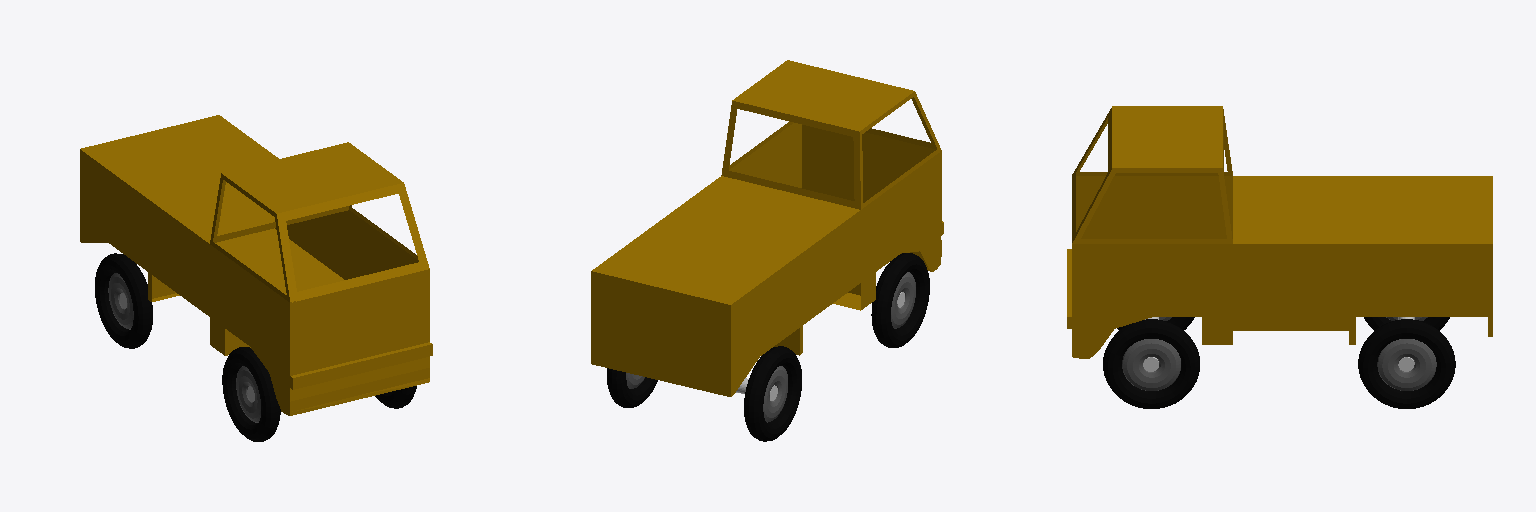
File: truck.obj
The picture shows the model from 3 angles: view 1: azimuth 30°, elevation 25°; view 2: azimuth 150°, elevation 25°; view 3: azimuth 270°, elevation 25°; orthographic projection.
Parts seen in each view (by area): view 1: Cube, Torus.003_Torus.007, Torus, Torus.007_Torus.010, Torus.004, Torus.001_Torus.005; view 2: Cube, Torus.003_Torus.007, Torus, Torus.005_Torus.008, Torus.004, Torus.007_Torus.010; view 3: Cube, Torus.005_Torus.008, Torus.001_Torus.005, Torus.006_Torus.009, Torus.002_Torus.006.
Part boxes in pixels (bbox=[...]): Cube: bbox=[80, 115, 432, 415]; Torus.003_Torus.007: bbox=[95, 253, 152, 348]; Torus: bbox=[222, 347, 280, 441]; Torus.007_Torus.010: bbox=[108, 273, 133, 329]; Torus.004: bbox=[236, 366, 260, 422]; Torus.001_Torus.005: bbox=[375, 386, 416, 408]; Cube: bbox=[591, 60, 943, 396]; Torus.003_Torus.007: bbox=[744, 346, 801, 441]; Torus: bbox=[871, 253, 929, 347]; Torus.005_Torus.008: bbox=[607, 368, 657, 407]; Torus.004: bbox=[891, 272, 915, 328]; Torus.007_Torus.010: bbox=[763, 366, 787, 422]; Cube: bbox=[1067, 106, 1492, 358]; Torus.005_Torus.008: bbox=[1358, 319, 1455, 408]; Torus.001_Torus.005: bbox=[1103, 319, 1199, 408]; Torus.006_Torus.009: bbox=[1377, 339, 1436, 390]; Torus.002_Torus.006: bbox=[1122, 339, 1180, 390].
Size of the model in its own units: 2.21 by 3.26 by 5.3.